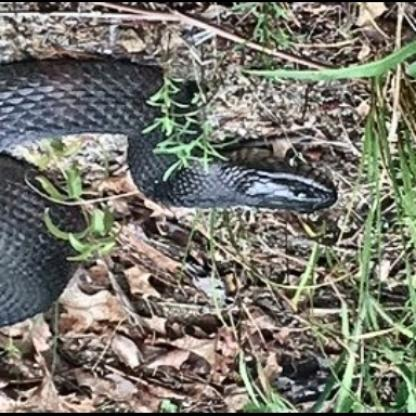Snake: (2, 46, 416, 331)
